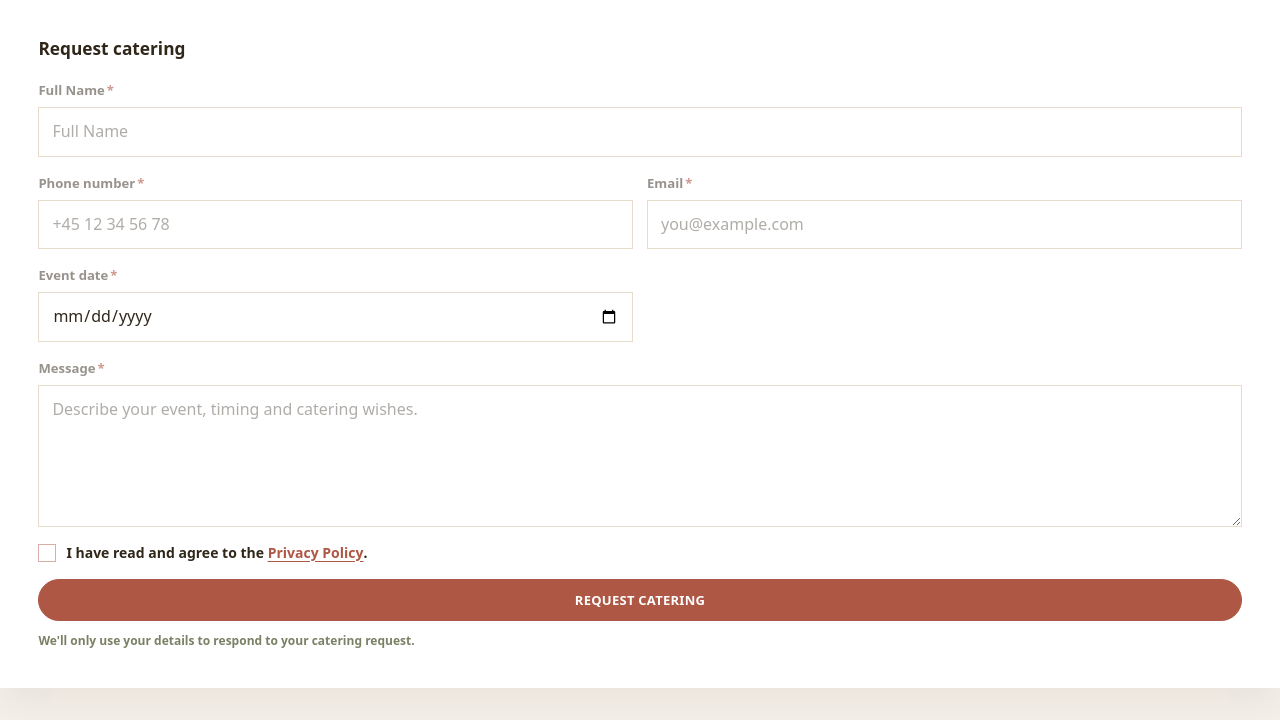
Test case: CateringInquiryForm — unified Formspree delivery › no endpoint configured: localized 'not set up' notice, no success
Step 1. Type "Sofia Berg" into the field labelled "Full Name*" → (640, 132), box [38,107,1242,156]
Step 2. Type "+45 55 55 55 55" into the field labelled "Phone number*" → (336, 224), box [38,200,633,249]
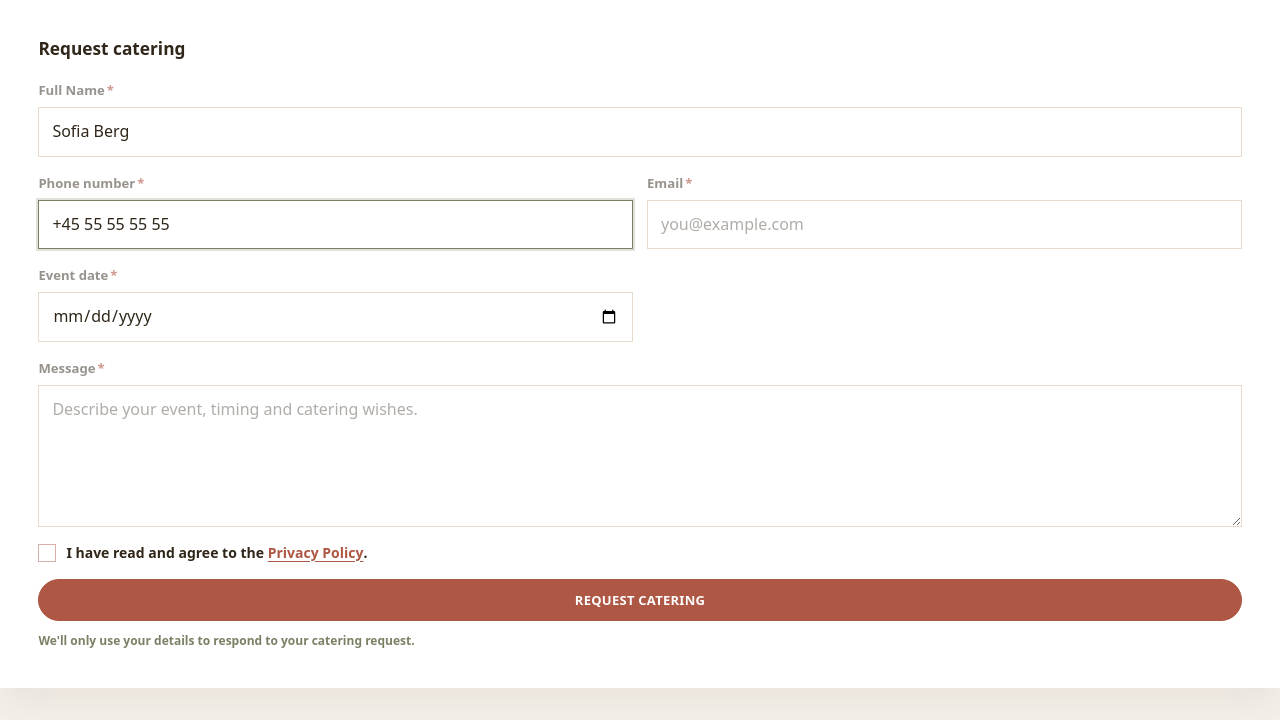
Step 3. Type "sofia@example.com" into the field labelled "Email*" → (944, 224), box [647,200,1242,249]
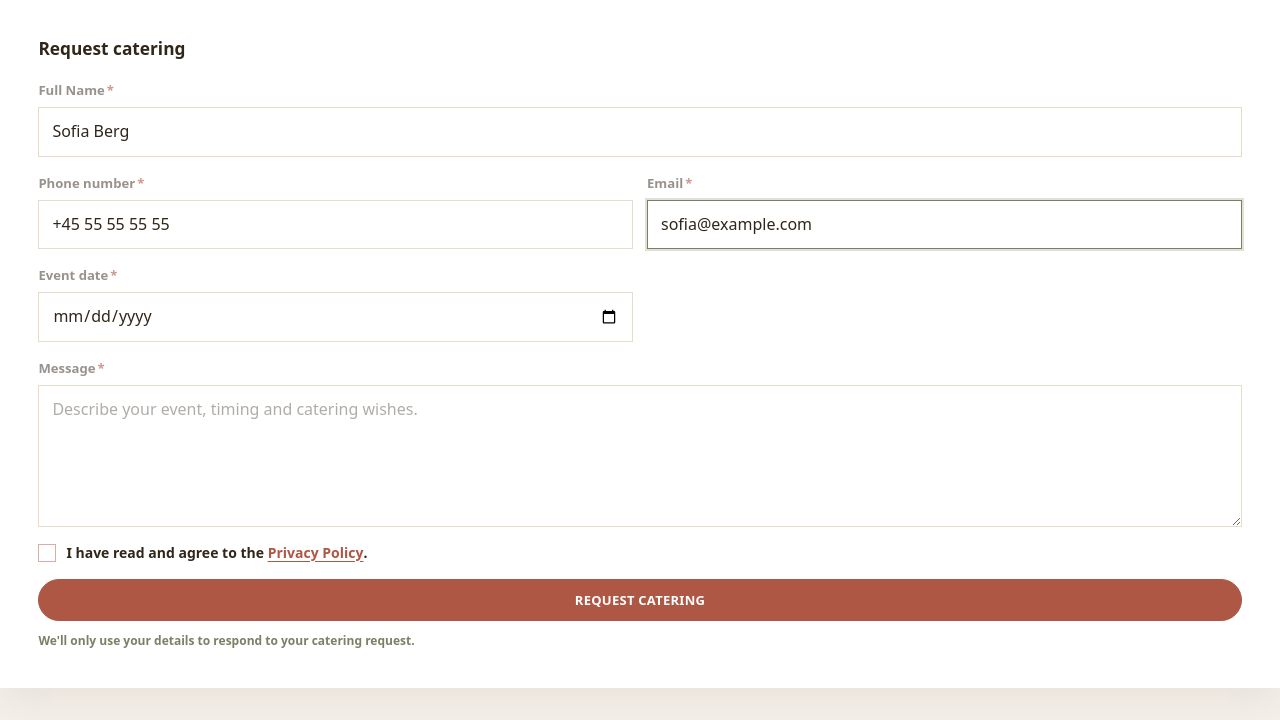
Step 4. Type "2099-05-01" into the date field labelled "Event date*" → (336, 317), box [38,292,633,342]
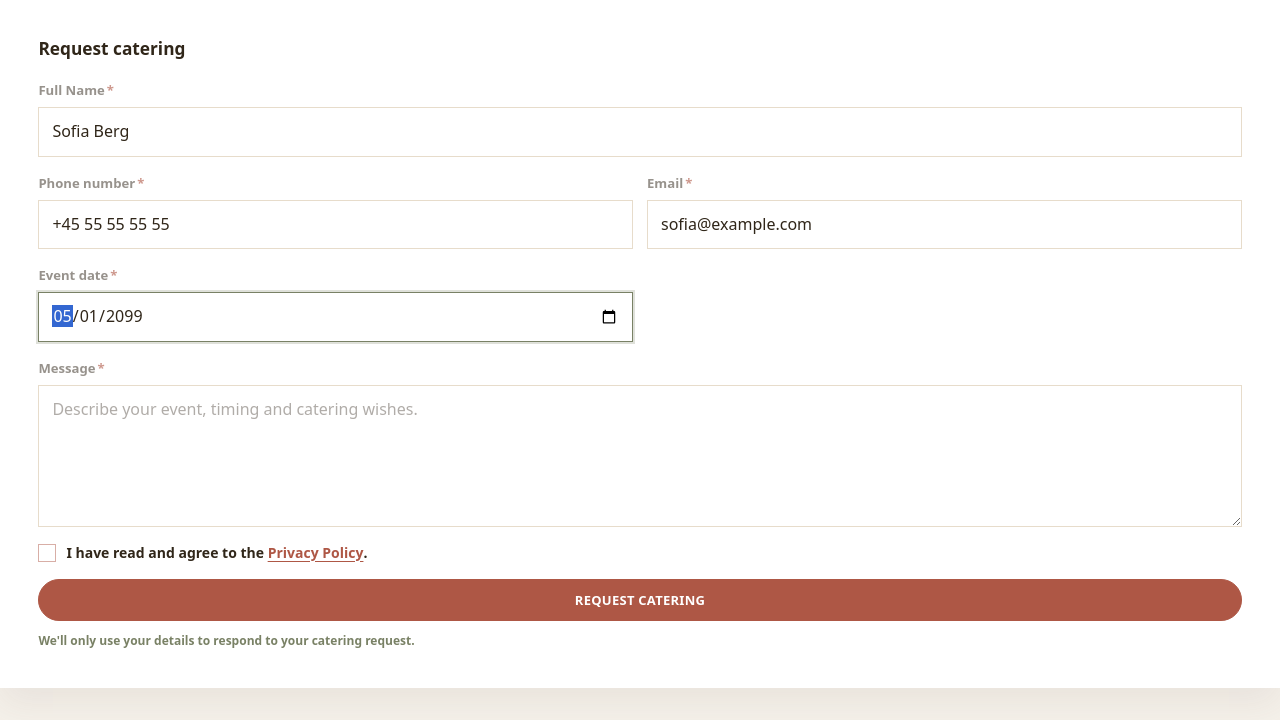
Step 5. Type "Lunch for 30 people" into the text box labelled "Message*" → (640, 456), box [38,385,1242,527]
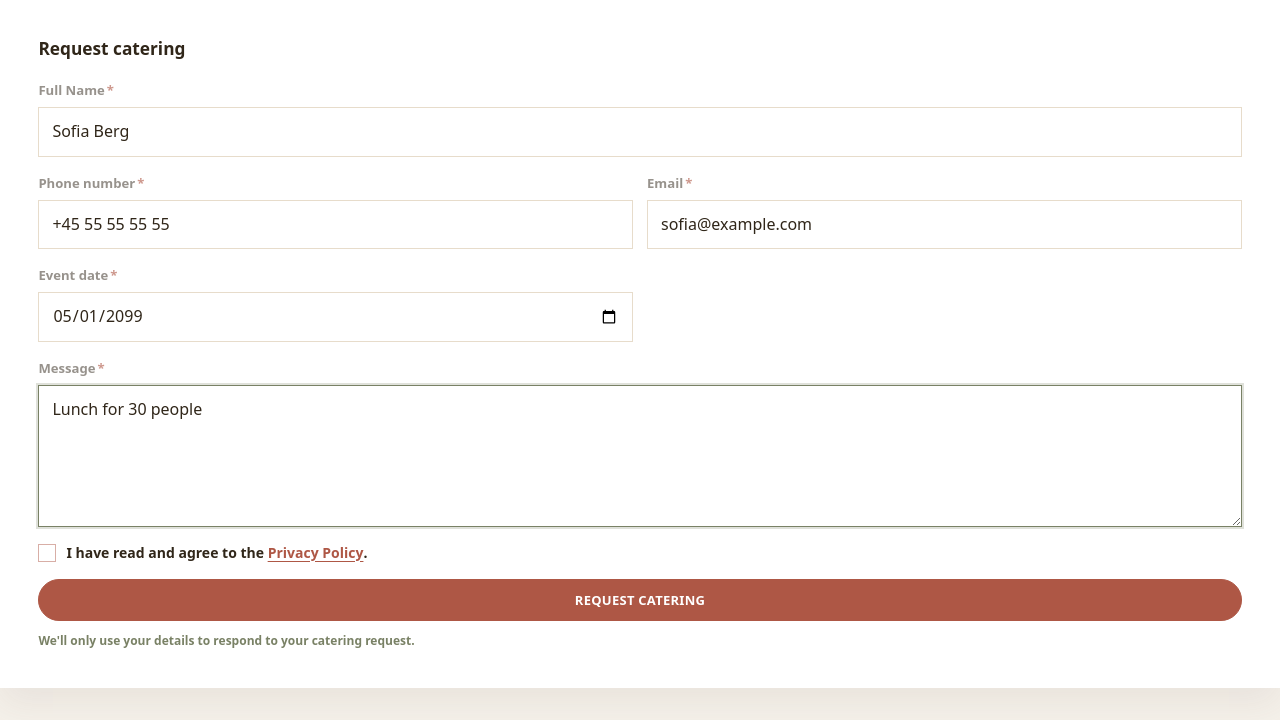
Step 6. Click the checkbox → (47, 553), box [38,544,56,562]
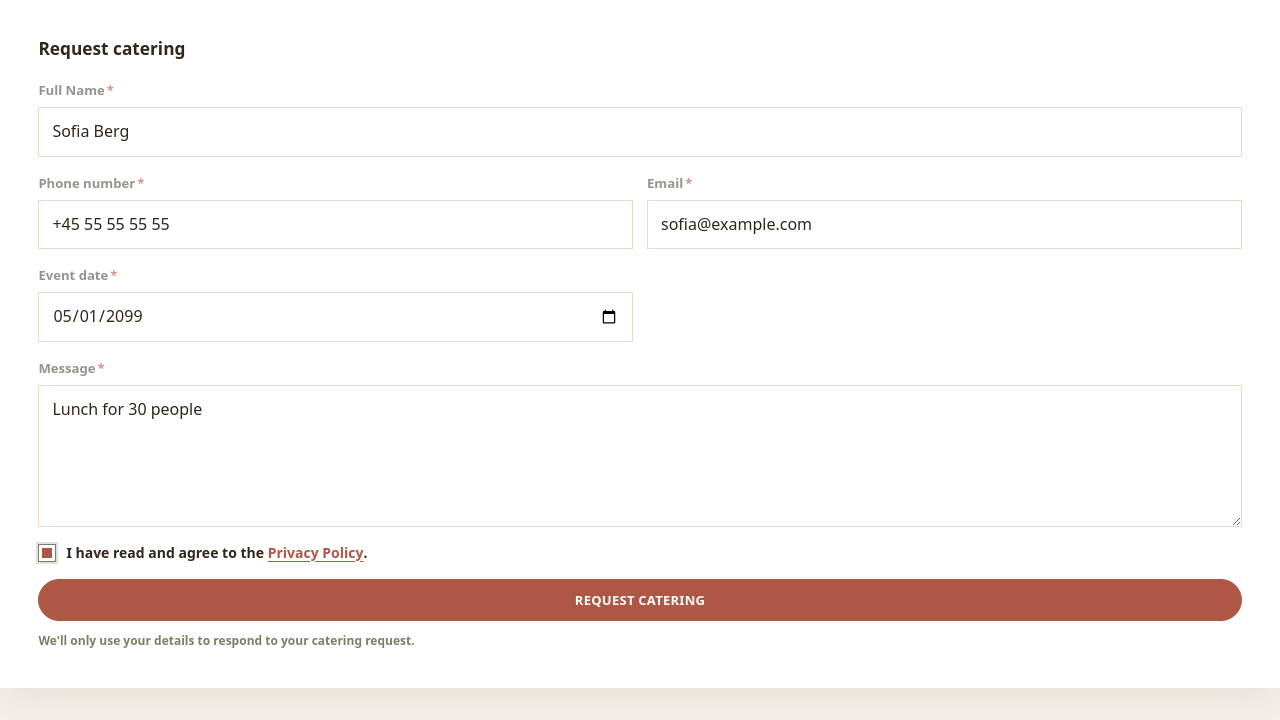
Step 7. Click the button "Request Catering" → (640, 600), box [38,579,1242,621]
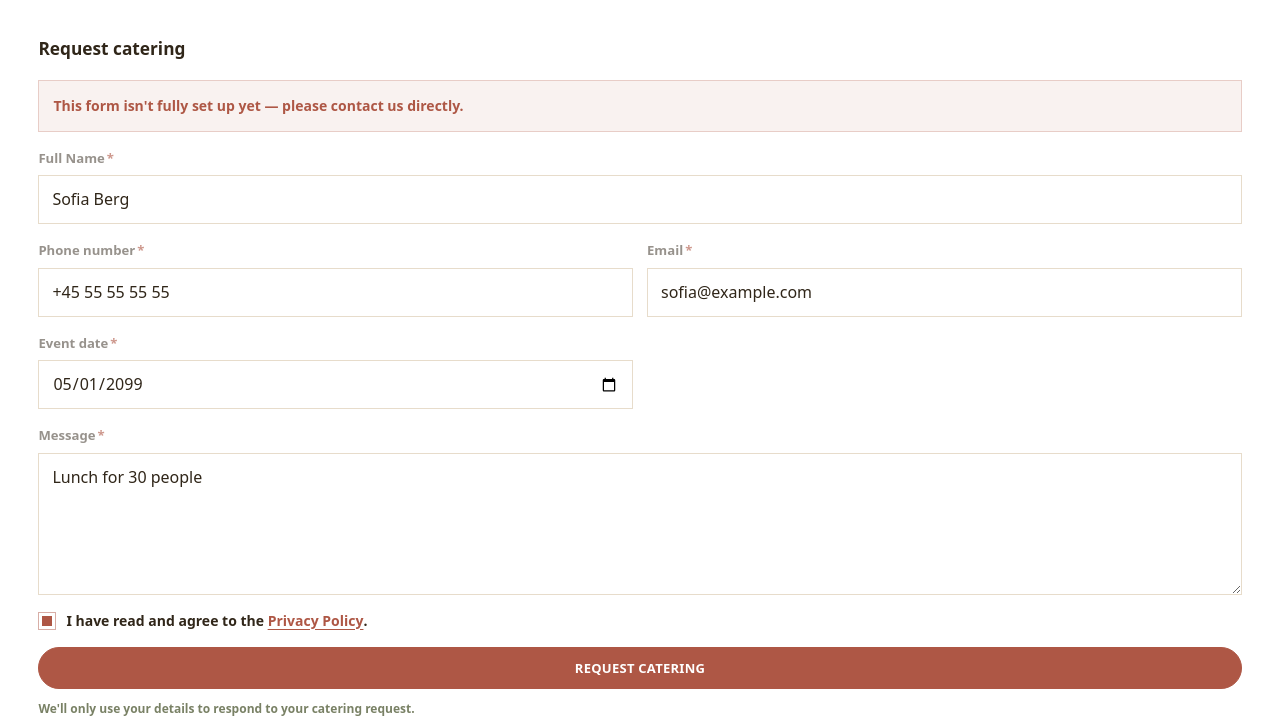
expect the text "This form isn't fully set up yet — please contact us directly." is shown: met, box [38,80,1242,132]
